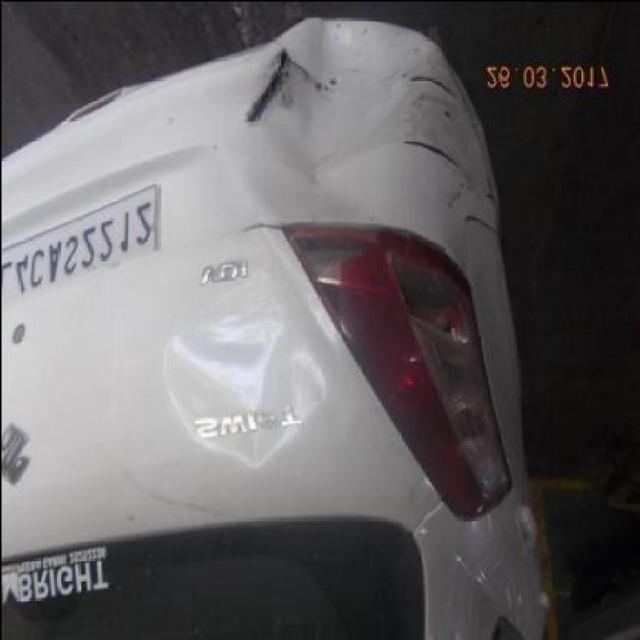damage: (241, 15, 427, 180), (159, 292, 321, 461), (404, 68, 494, 202)
